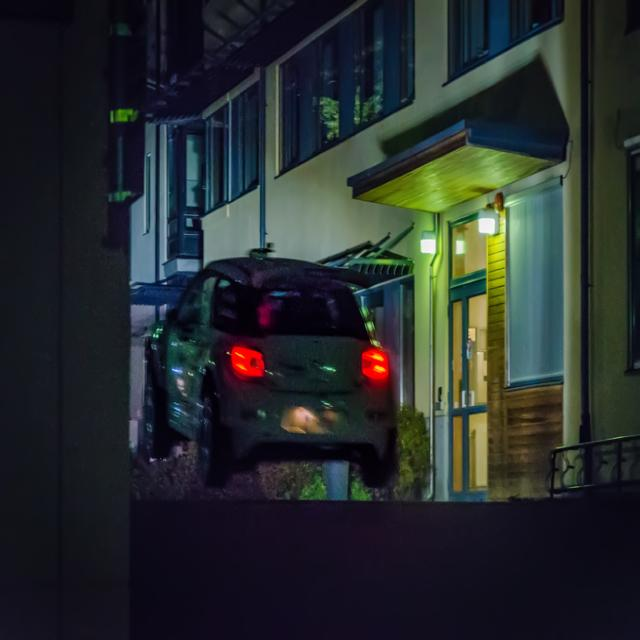car: (136, 244, 404, 486)
